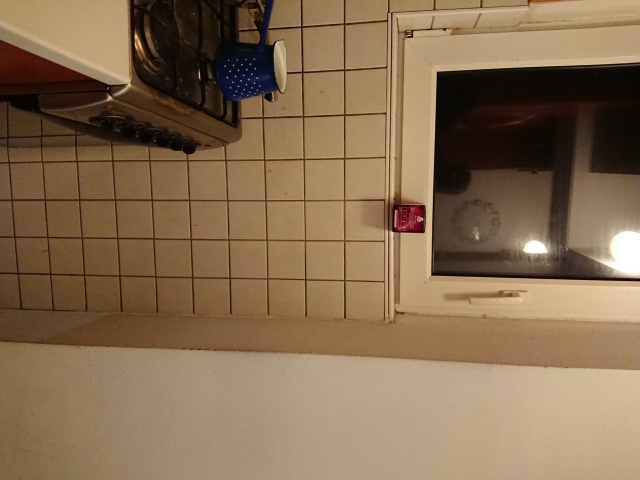Franck Black Currant Tea 60g: (390, 201, 428, 235)
